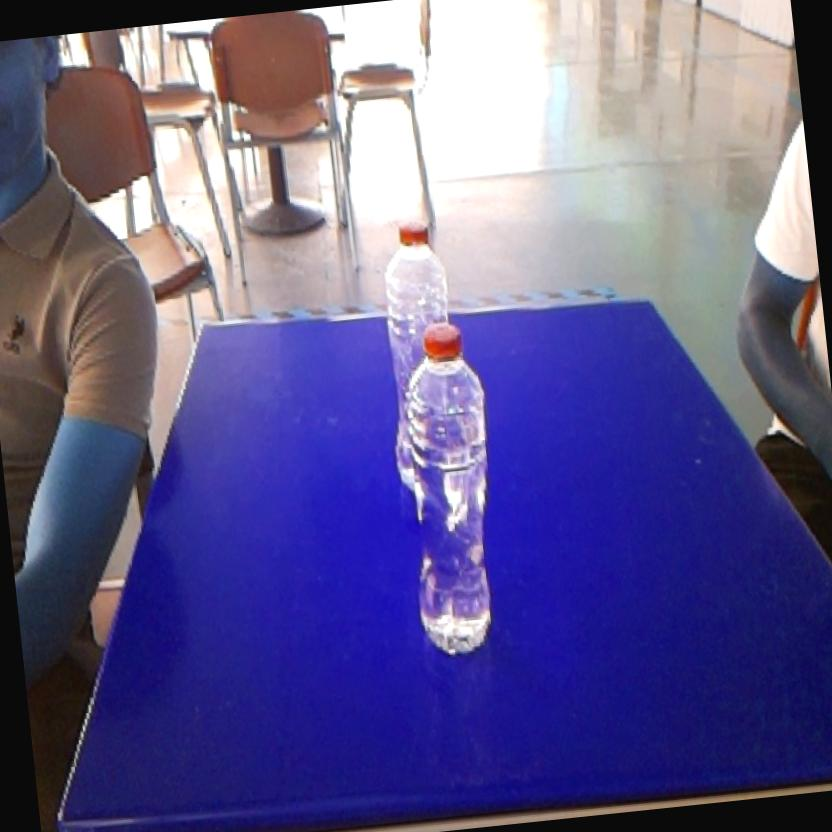no_label: (377, 312, 523, 672), (370, 203, 462, 327)
